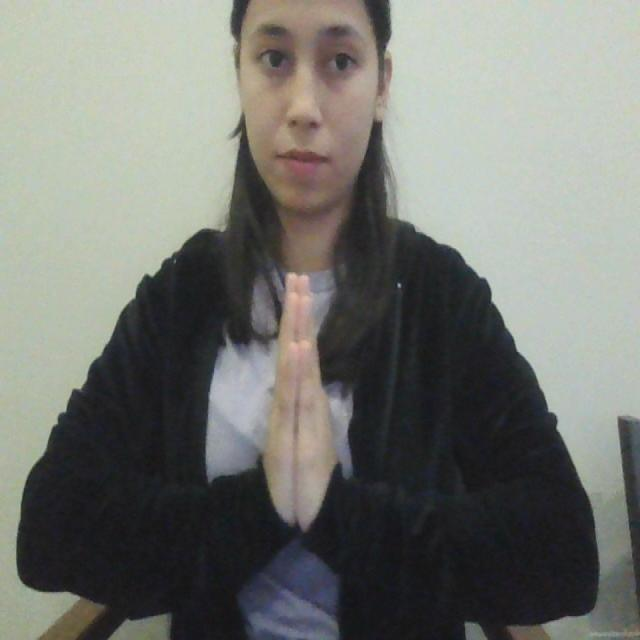Ozur-Dilemek: (254, 264, 344, 544)
